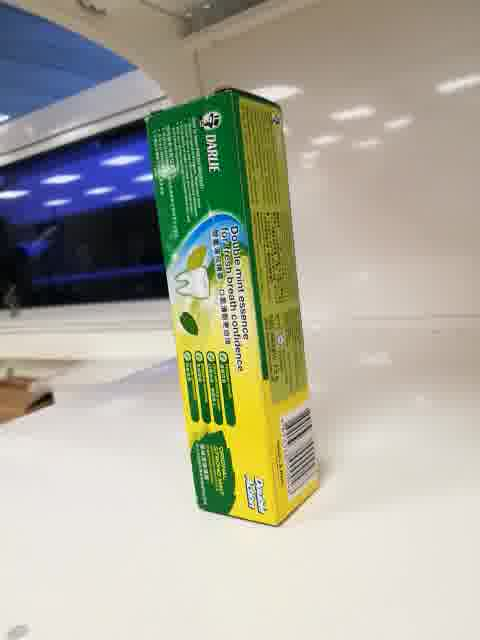toothpaste: (145, 87, 323, 529)
